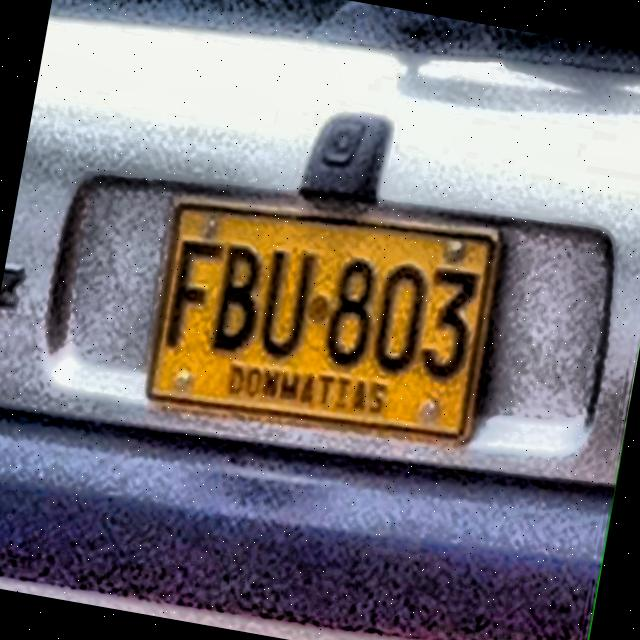0: (366, 258, 433, 382)
3: (414, 265, 485, 391)
8: (318, 252, 384, 374)
B: (208, 240, 270, 360)
F: (161, 237, 227, 355)
U: (252, 246, 318, 365)
